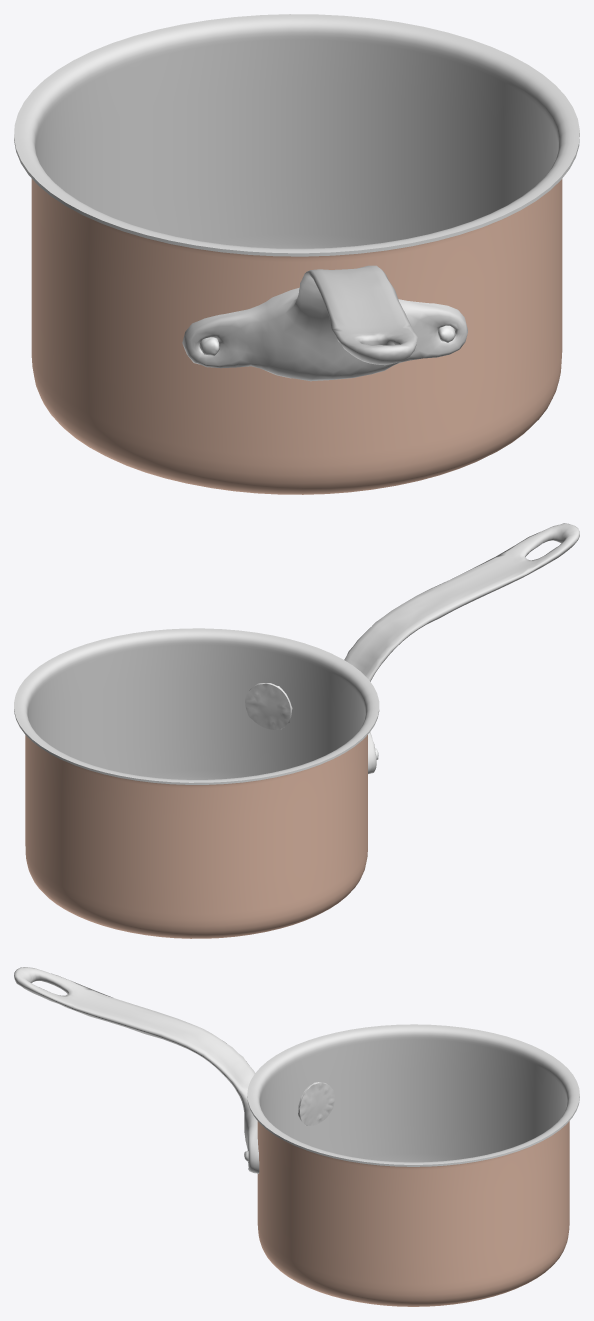
The model's file is CopperPot.fbx.
3 renders of one model, top to bottom at view 1: azimuth 30°, elevation 25°; view 2: azimuth 150°, elevation 25°; view 3: azimuth 270°, elevation 25°, orthographic. The views are drawn at different scales.
Visible parts, largest first — view 1: Pot 20cm, Handle Large; view 2: Pot 20cm, Handle Large; view 3: Pot 20cm, Handle Large.
Part boxes in pixels (box(x1,y1,x2,y2)): Pot 20cm: box(14, 14, 579, 494); Handle Large: box(182, 265, 467, 381); Pot 20cm: box(14, 628, 379, 938); Handle Large: box(245, 523, 579, 773); Pot 20cm: box(247, 1024, 579, 1306); Handle Large: box(14, 967, 335, 1173).
Size of the model in its own units: 40.59 by 27.07 by 66.31.
